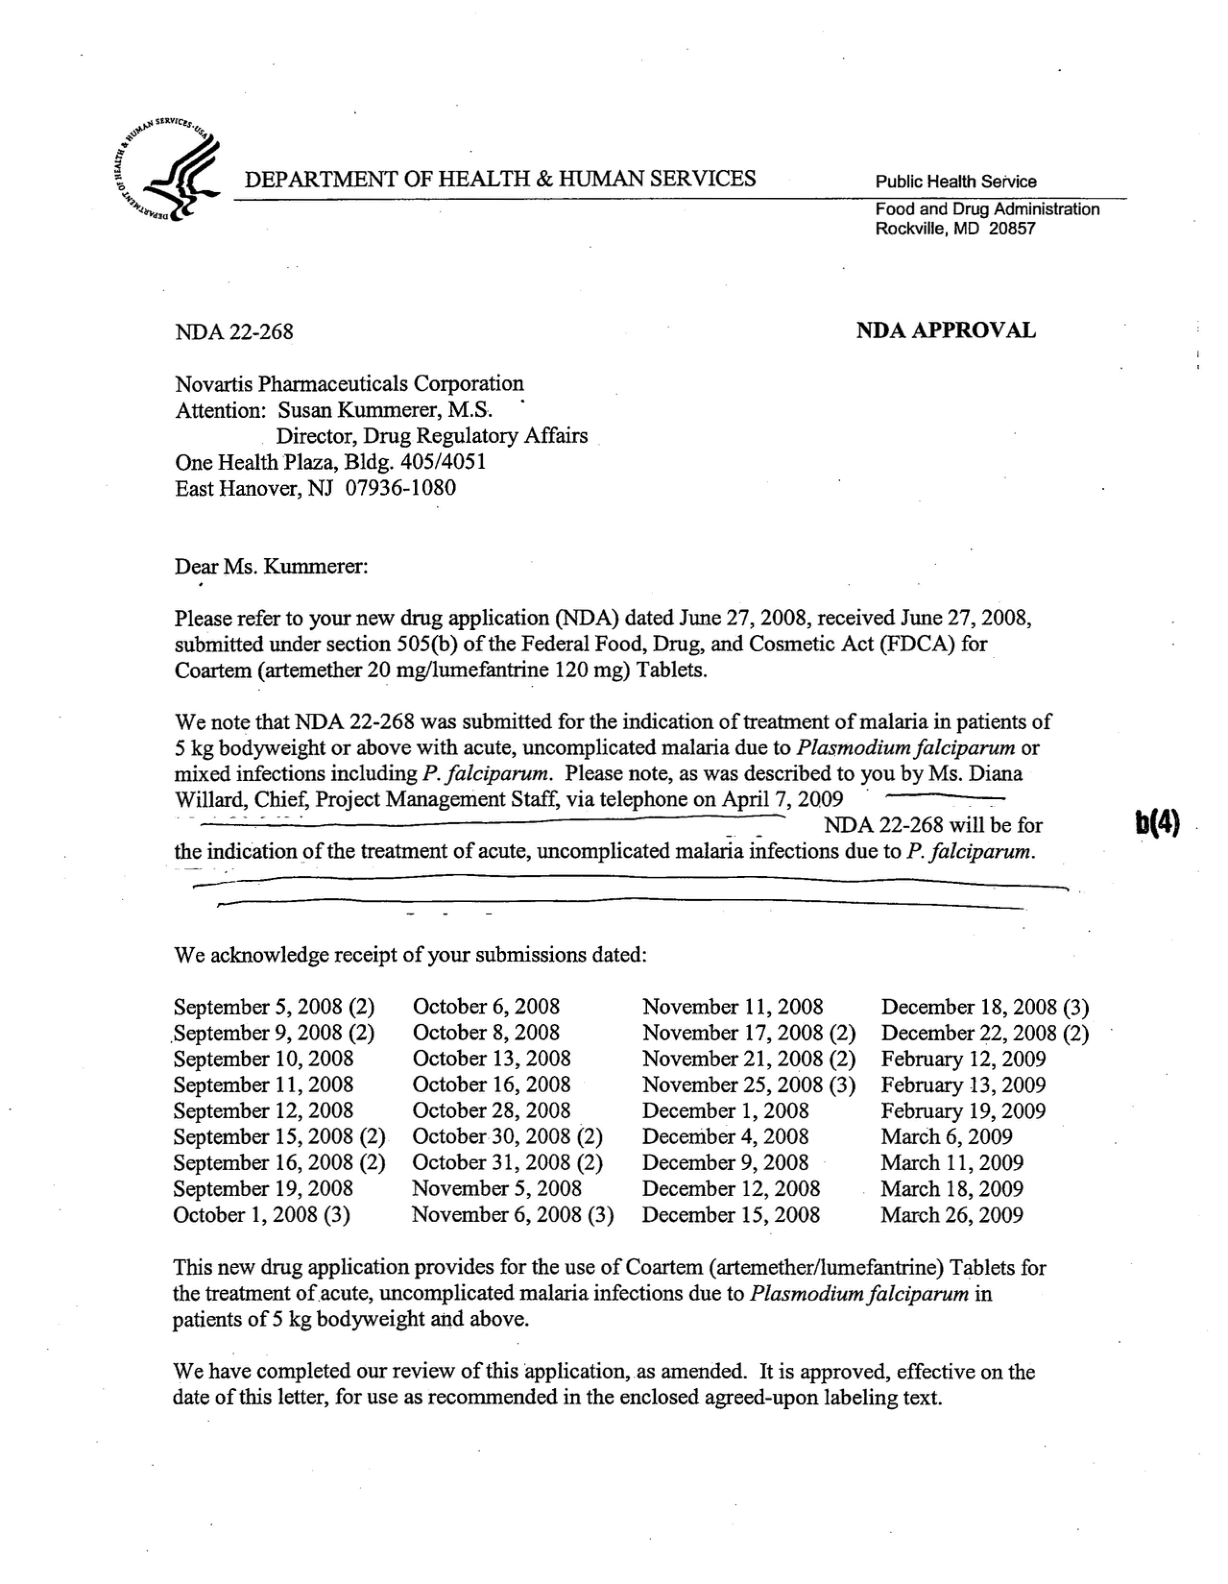nolines: (171, 996, 1090, 1227)
